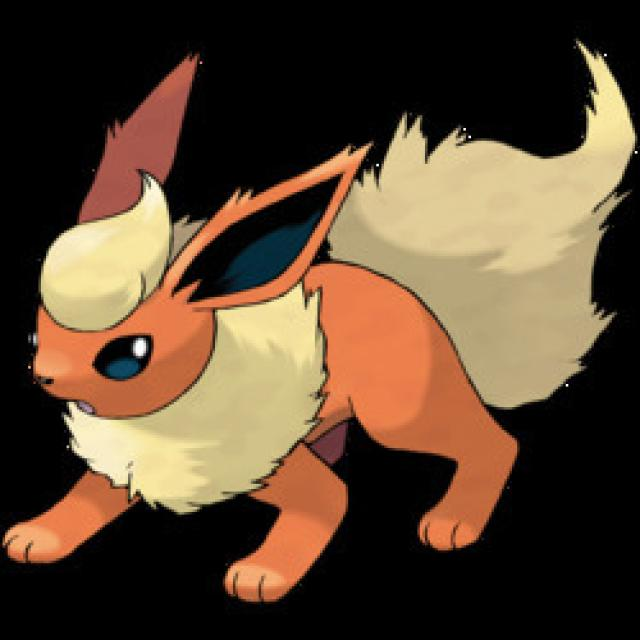Flareon: (13, 147, 526, 563)
